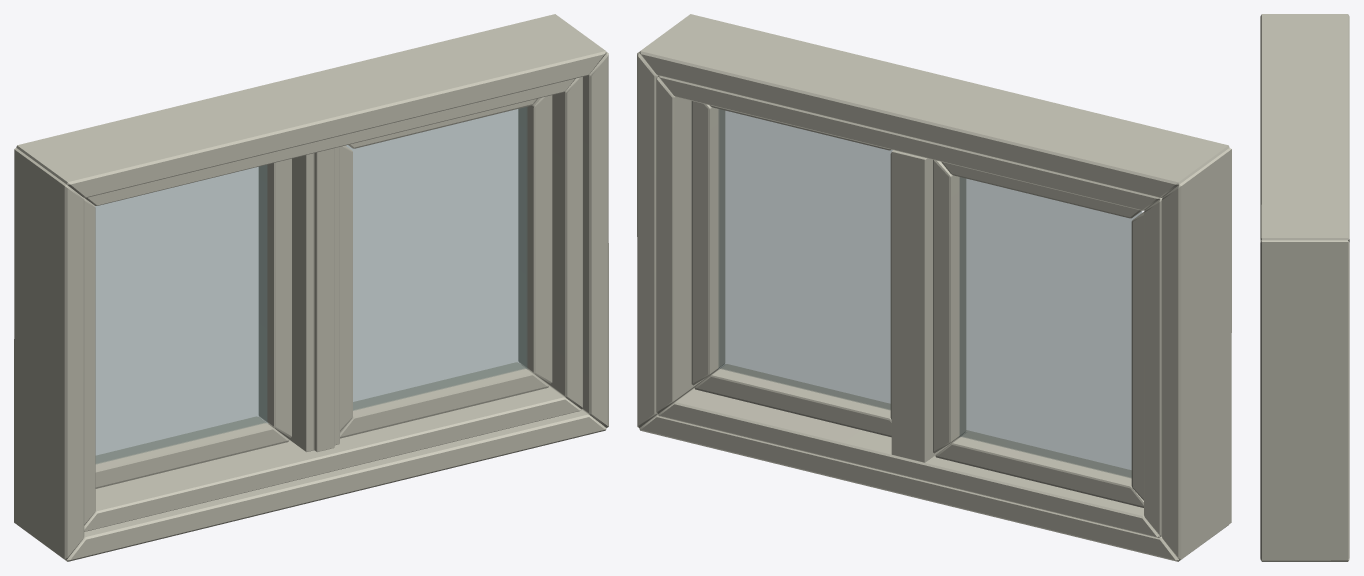
Rendered from KitchenWindow.fbx.
3 renders of one model, left to right at view 1: azimuth 30°, elevation 25°; view 2: azimuth 150°, elevation 25°; view 3: azimuth 270°, elevation 25°, orthographic. The views are drawn at different scales.
Visible parts, largest first — view 1: WindowFrame, WindowGlass; view 2: WindowFrame, WindowGlass; view 3: WindowFrame.
Boxes of the visible parts, x1,y1,x2,y2 form: WindowFrame: (14, 14, 608, 561); WindowGlass: (95, 107, 528, 463); WindowFrame: (637, 14, 1231, 561); WindowGlass: (717, 109, 1142, 477); WindowFrame: (1260, 14, 1349, 561).
Size of the model in its own units: 3 by 2 by 0.5002.
